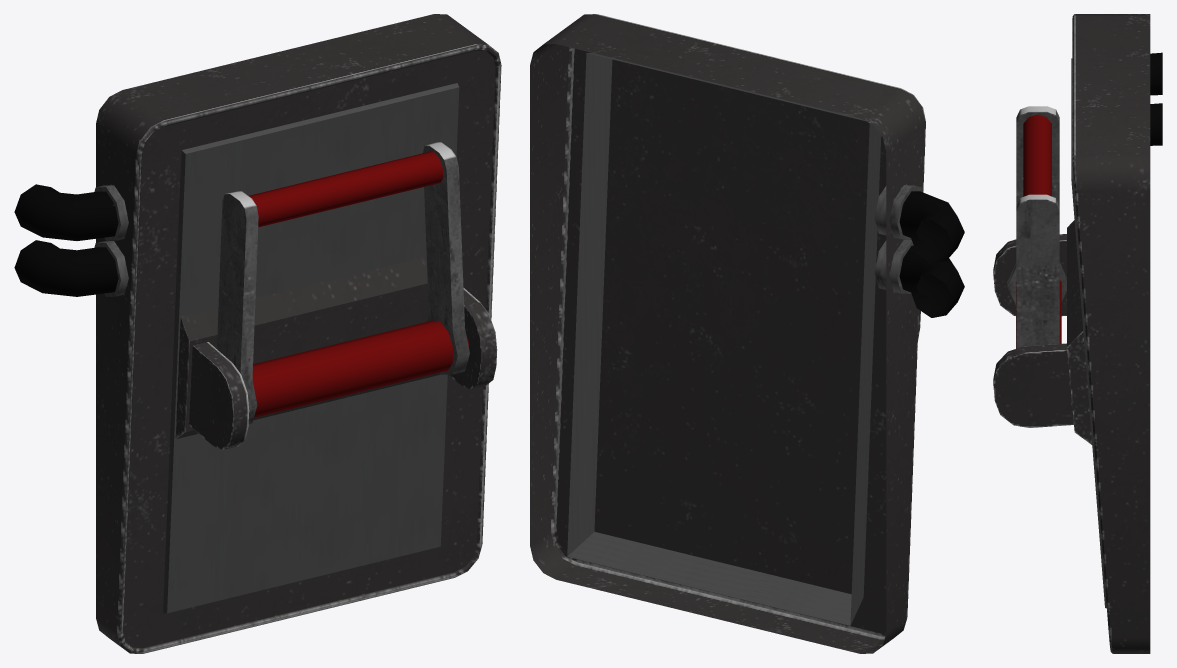
Rendered from DropshipDoor.fbx.
3 views of the same model, side by side, from view 1: azimuth 30°, elevation 25°; view 2: azimuth 150°, elevation 25°; view 3: azimuth 270°, elevation 25° (orthographic). The views are drawn at different scales.
Parts seen in each view (by area): view 1: DropshipDoor; view 2: DropshipDoor; view 3: DropshipDoor.
Part boxes in pixels (left/top/right/bottom): DropshipDoor: left=14, top=14, right=501, bottom=653; DropshipDoor: left=530, top=14, right=964, bottom=653; DropshipDoor: left=993, top=14, right=1162, bottom=653.
Bounding box in the file's own units: 903 × 1077 × 332.
